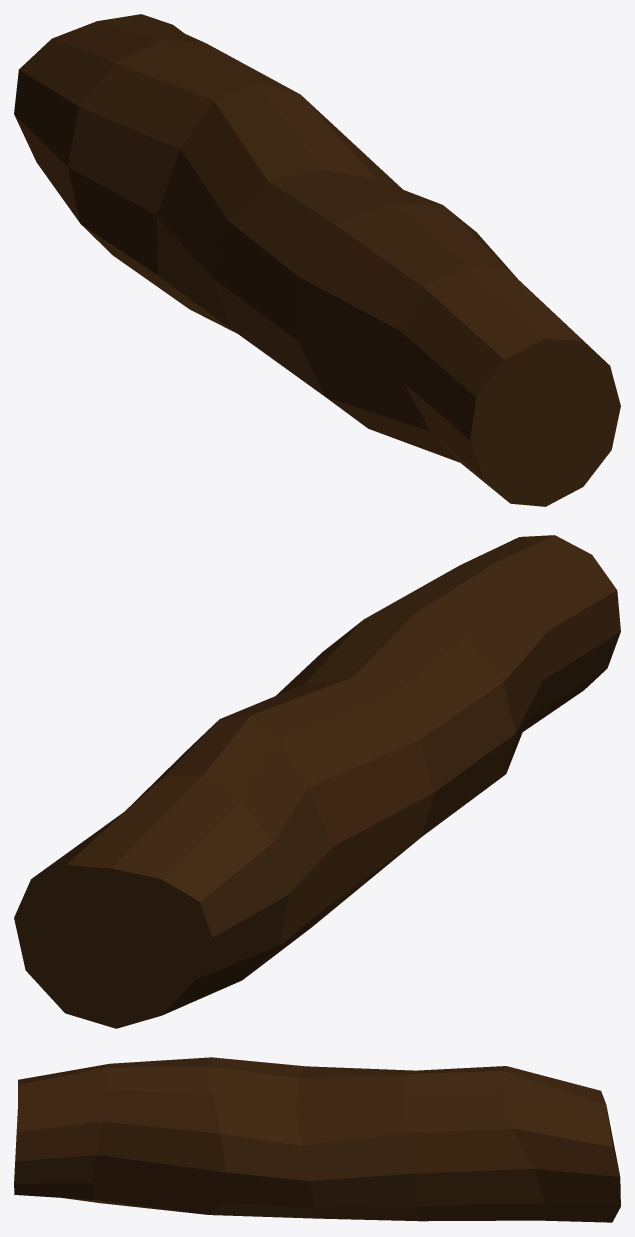
The model's file is Log01.fbx.
The picture shows the model from 3 angles, top to bottom: view 1: azimuth 30°, elevation 25°; view 2: azimuth 150°, elevation 25°; view 3: azimuth 270°, elevation 25°; orthographic projection. The views are drawn at different scales.
Visible parts, largest first — view 1: Cylinder.006; view 2: Cylinder.006; view 3: Cylinder.006.
Boxes of the visible parts, x1=… form: Cylinder.006: x1=14, y1=14, x2=620, y2=506; Cylinder.006: x1=14, y1=535, x2=620, y2=1028; Cylinder.006: x1=14, y1=1057, x2=620, y2=1222.
Bounding box in the file's own units: 192 × 194 × 729.
